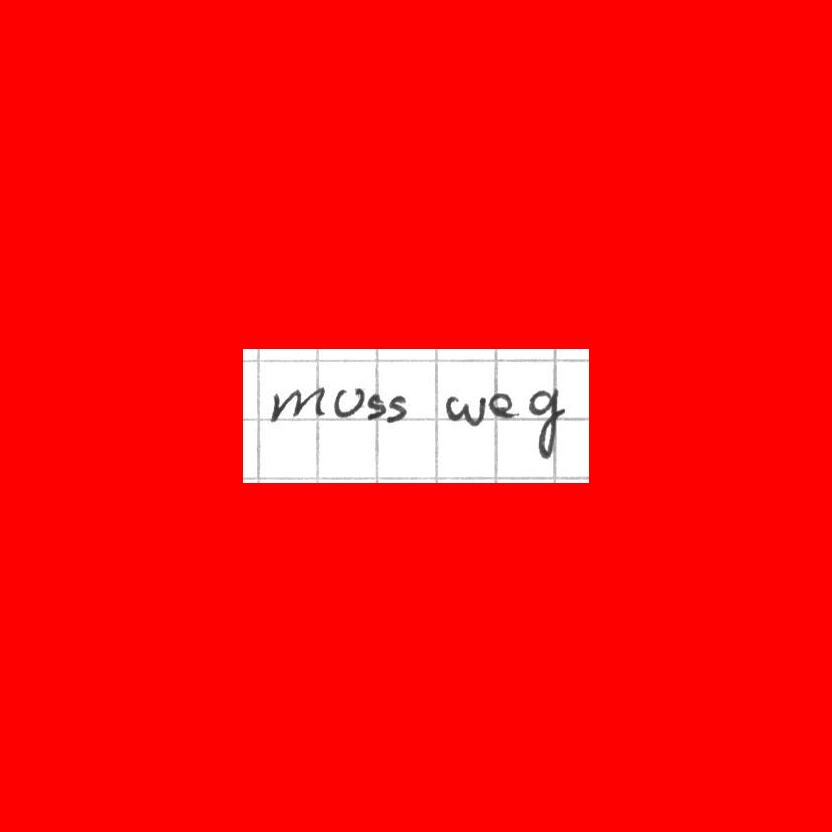Char: (530, 384, 567, 457), (271, 385, 323, 423), (443, 391, 487, 427), (332, 385, 361, 420), (489, 391, 516, 418), (387, 393, 408, 423), (366, 393, 387, 421)
